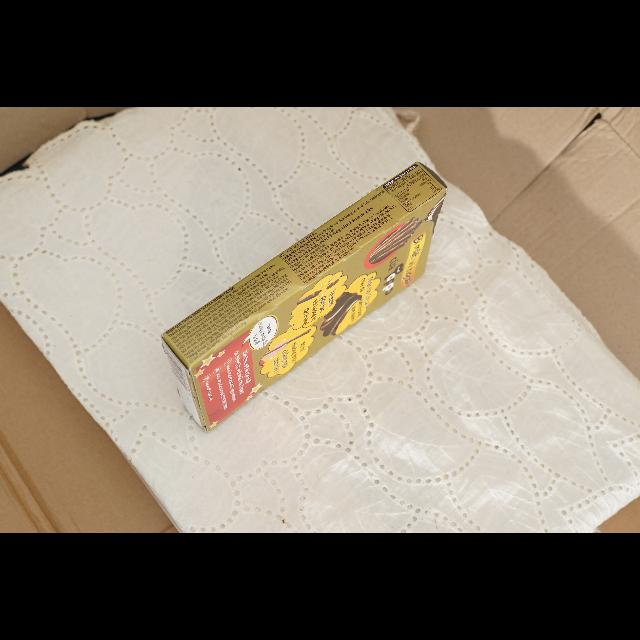banh_toppo_socola: (162, 163, 447, 431)
